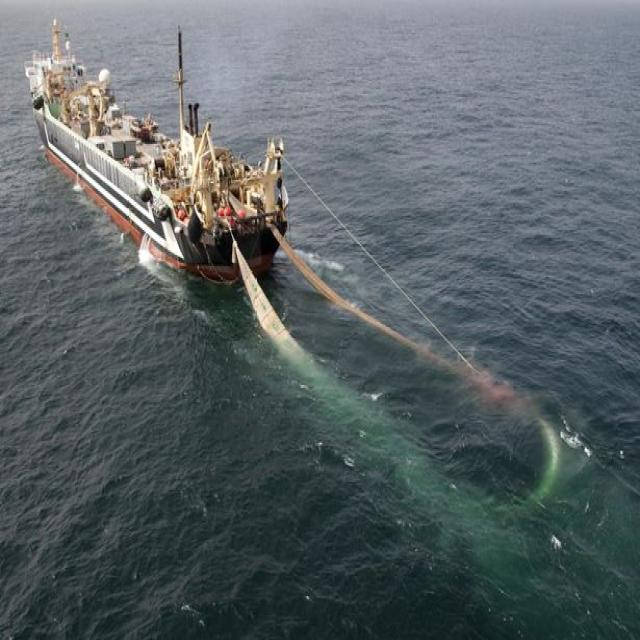boat: (22, 16, 306, 324)
